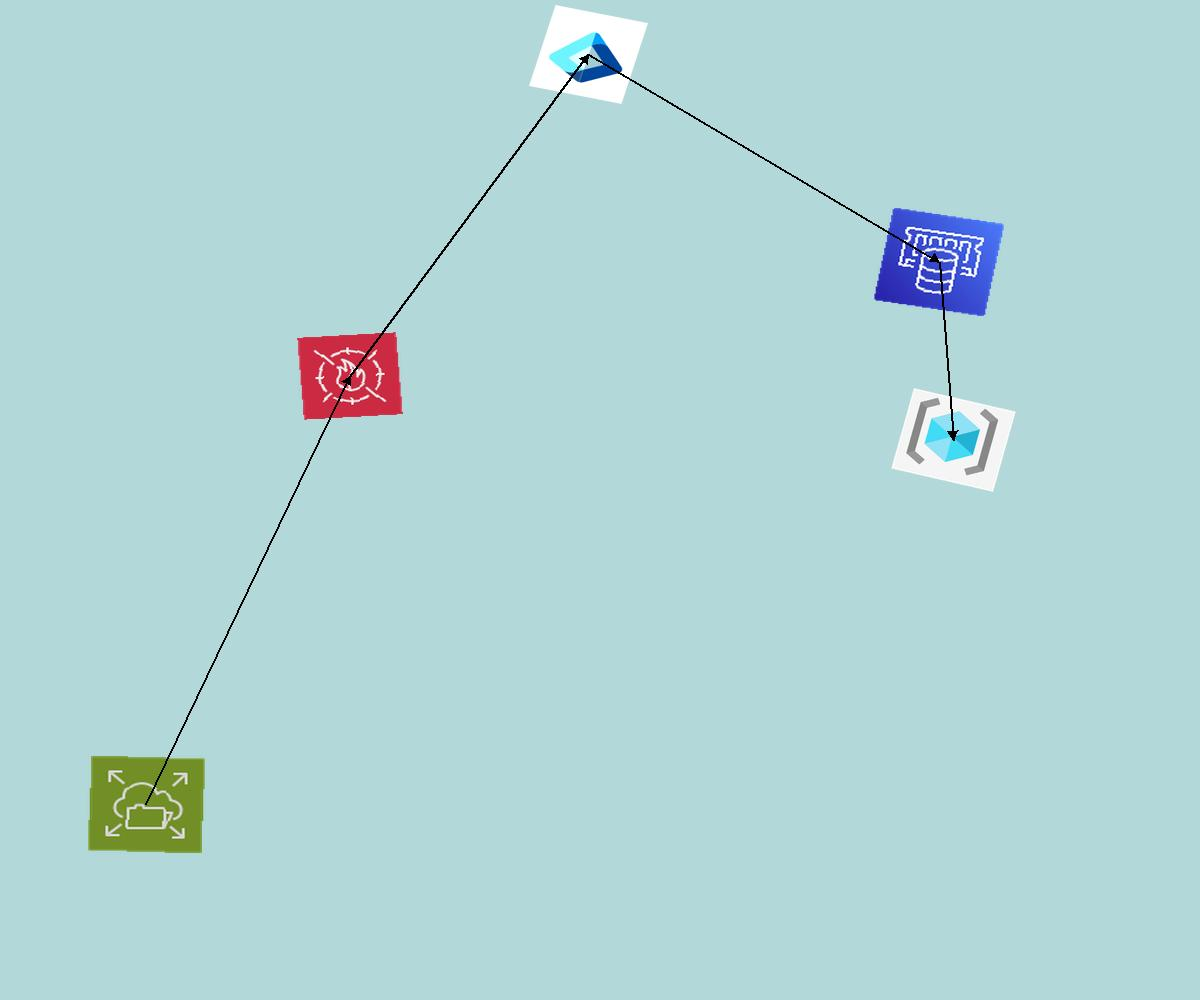AWS-EFS: (87, 755, 206, 854)
AWS-ElastiCache: (873, 207, 1005, 317)
AWS-WAF: (297, 332, 403, 420)
Azure_microsoft_entra: (529, 5, 648, 104)
Azure_resource_group: (891, 388, 1016, 492)
